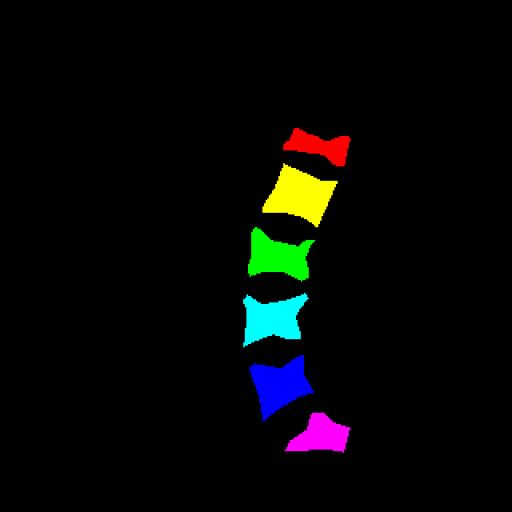L1: (283, 128, 348, 166)
L2: (262, 164, 337, 226)
L3: (249, 227, 315, 280)
L4: (243, 294, 307, 346)
L5: (250, 355, 313, 420)
S1: (285, 413, 350, 452)
